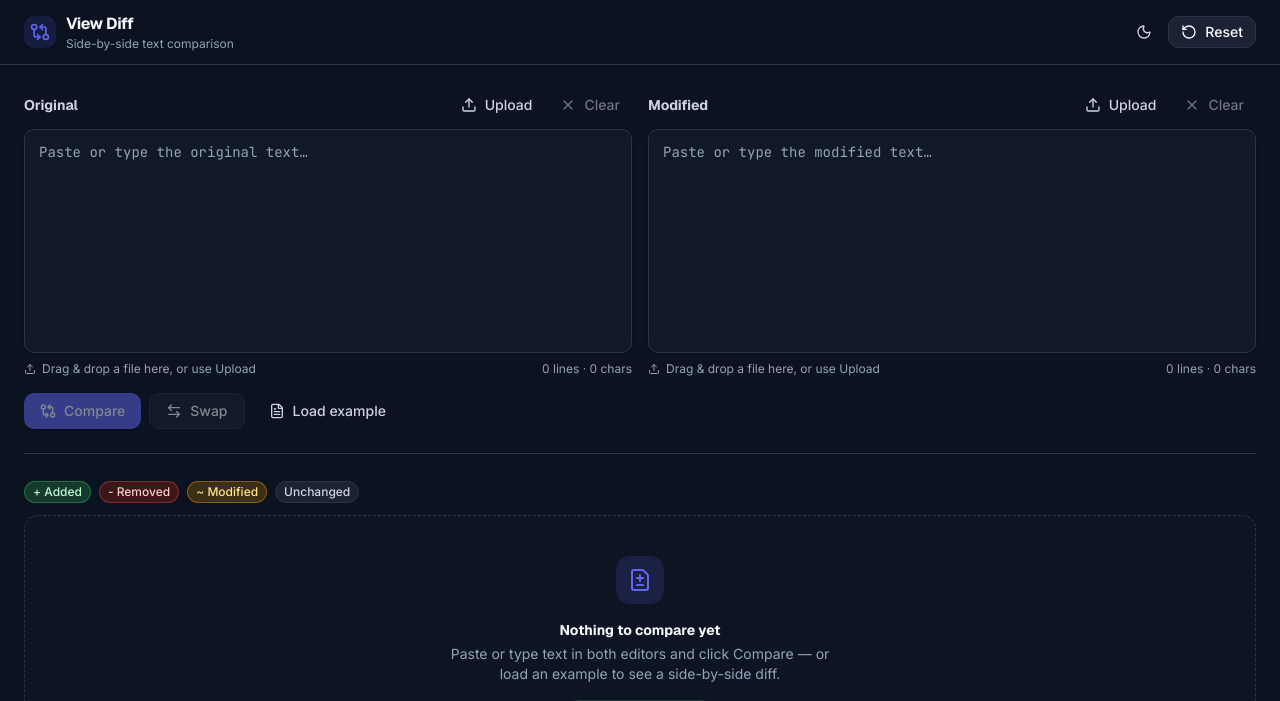
editor input actions (US2) › swaps the contents of the two editors
Type "AAA" into the text box labelled "Original". click: (328, 241)
box: left=24, top=129, right=632, bottom=353
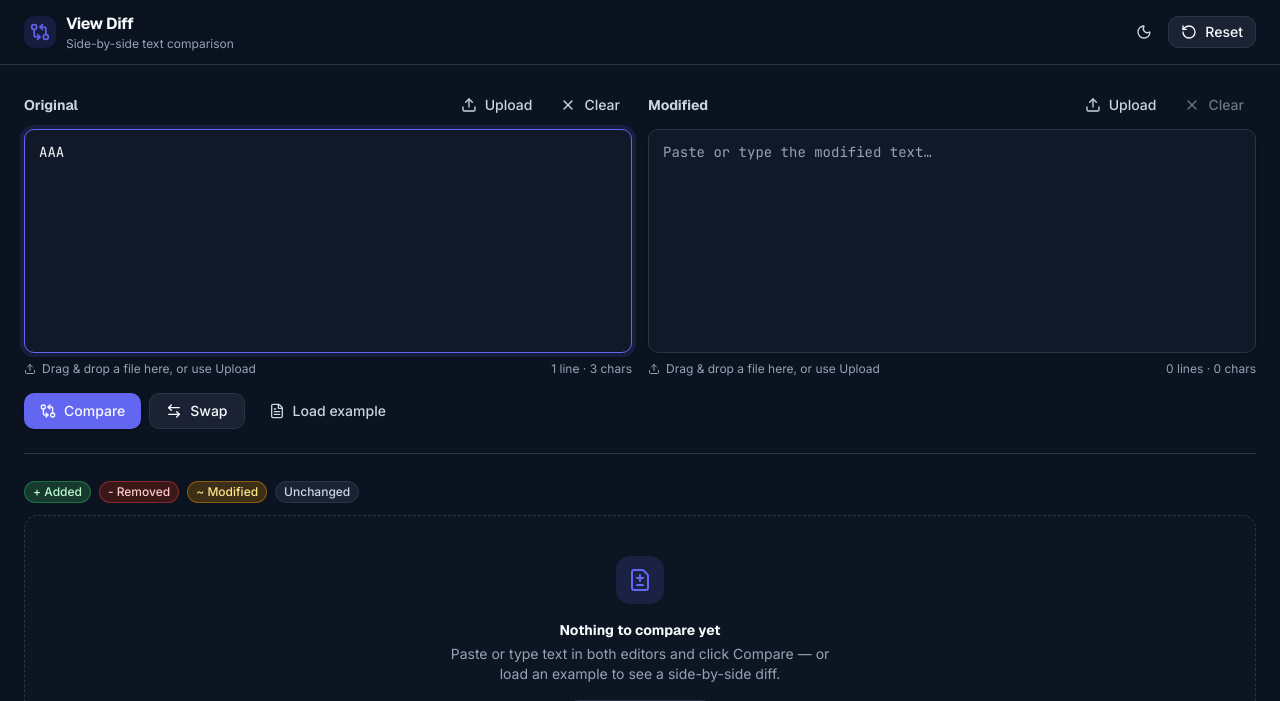
Type "BBB" into the text box labelled "Modified". click: (952, 241)
box: left=648, top=129, right=1256, bottom=353
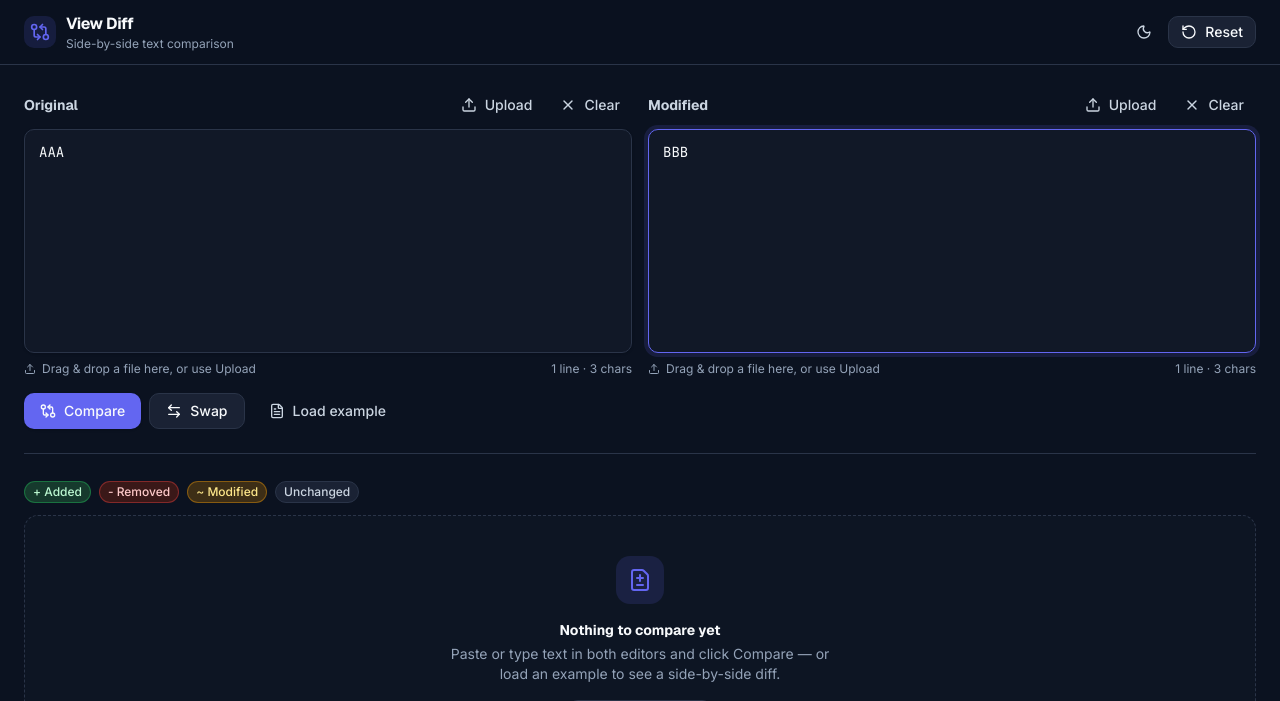
Click the button "Swap". click: (197, 411)
box: left=149, top=393, right=245, bottom=429
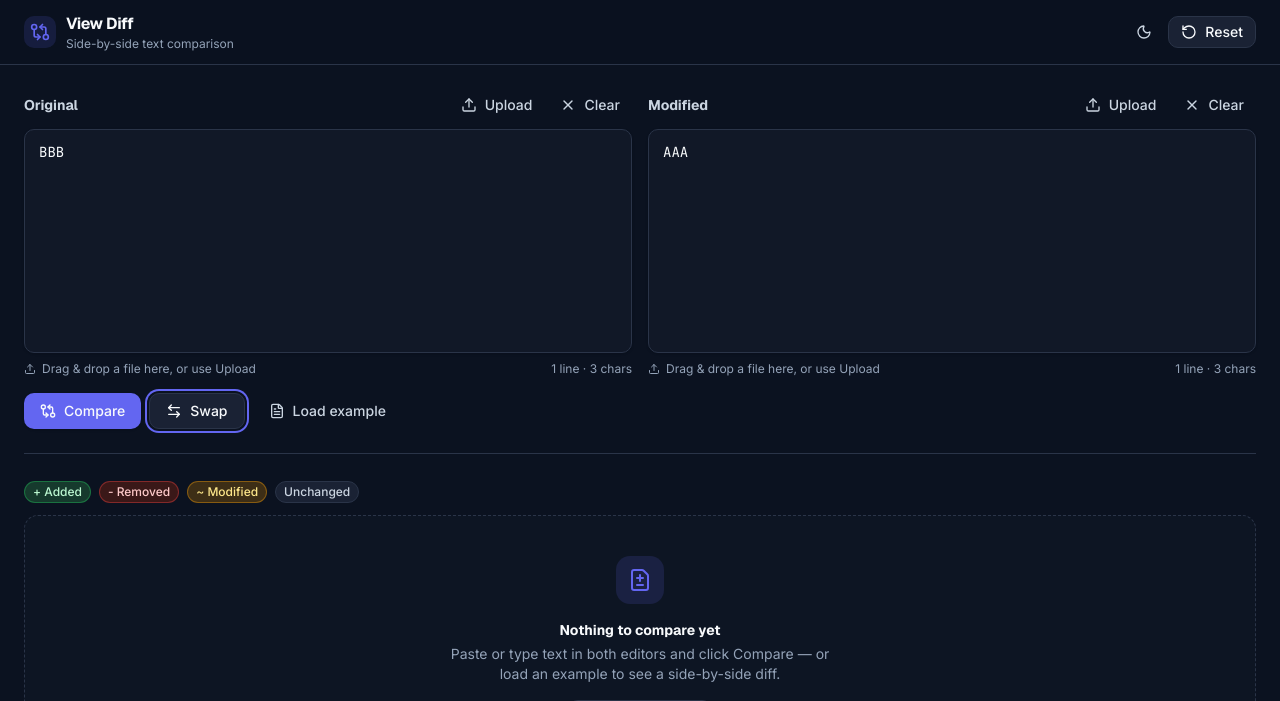
Expected: the text box labelled "Original" holds "BBB", left=24, top=129, right=632, bottom=353
Expected: the text box labelled "Modified" holds "AAA", left=648, top=129, right=1256, bottom=353
